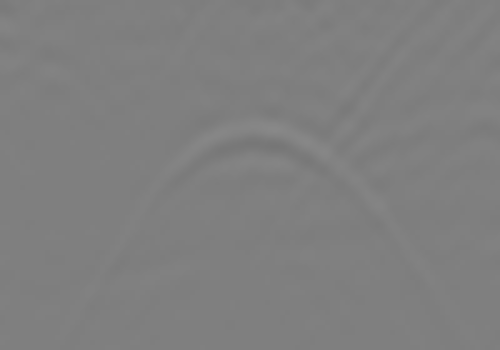hyperbola: (97, 108, 402, 341)
